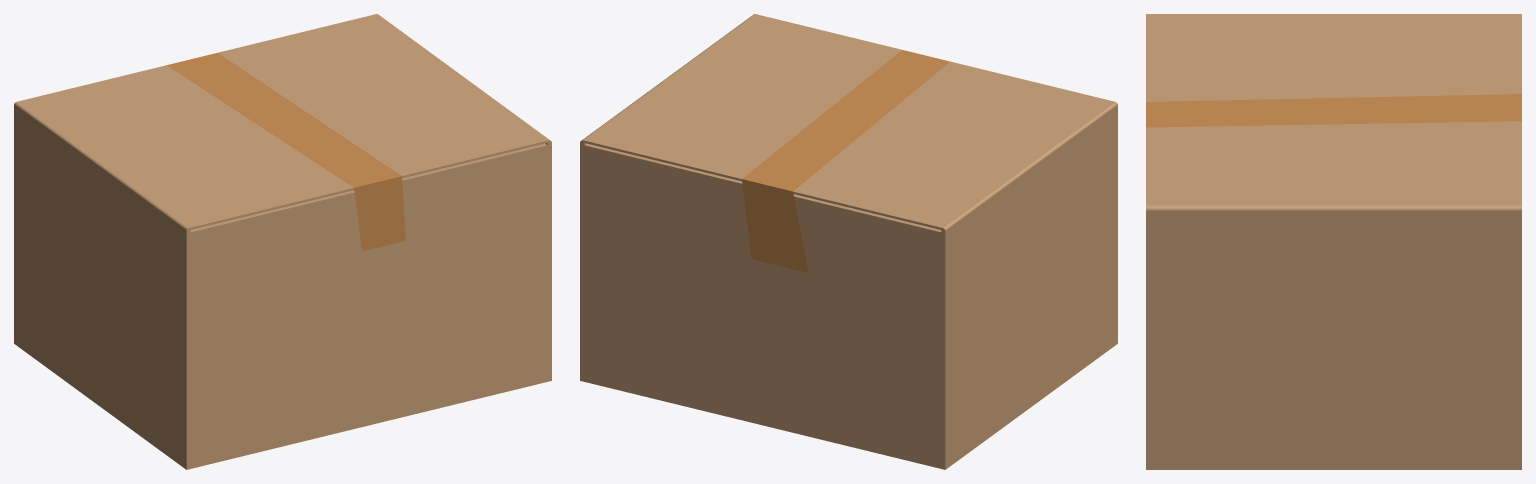
3 views of the same model, side by side, from view 1: azimuth 30°, elevation 25°; view 2: azimuth 150°, elevation 25°; view 3: azimuth 270°, elevation 25° (orthographic). The views are drawn at different scales.
Parts seen in each view (by area): view 1: cardboard_box (×2); view 2: cardboard_box (×2); view 3: cardboard_box (×2).
Part boxes in pixels (x1=…): cardboard_box (×2): x1=14, y1=14, x2=551, y2=469; cardboard_box (×2): x1=580, y1=14, x2=1117, y2=469; cardboard_box (×2): x1=1146, y1=14, x2=1521, y2=469.
Bounding box in the file's own units: 38.94 × 31.85 × 24.57.
